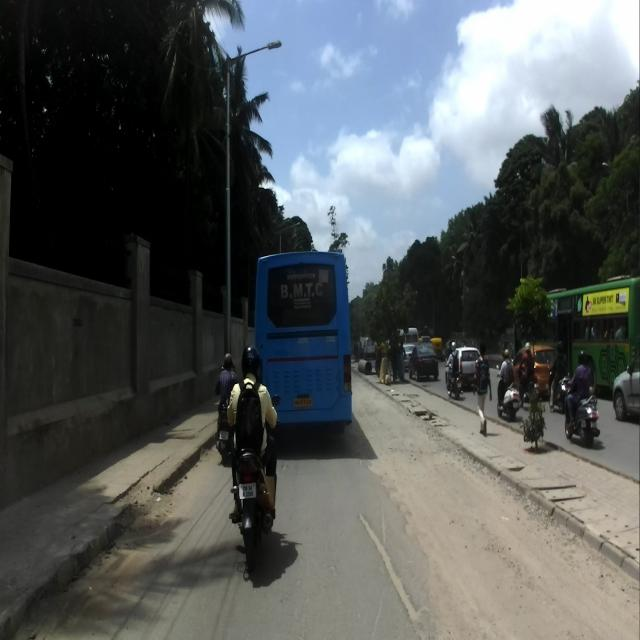bus: (253, 249, 354, 438), (513, 272, 639, 391)
motorcycle: (226, 392, 281, 570)
scooter: (563, 378, 600, 449)
